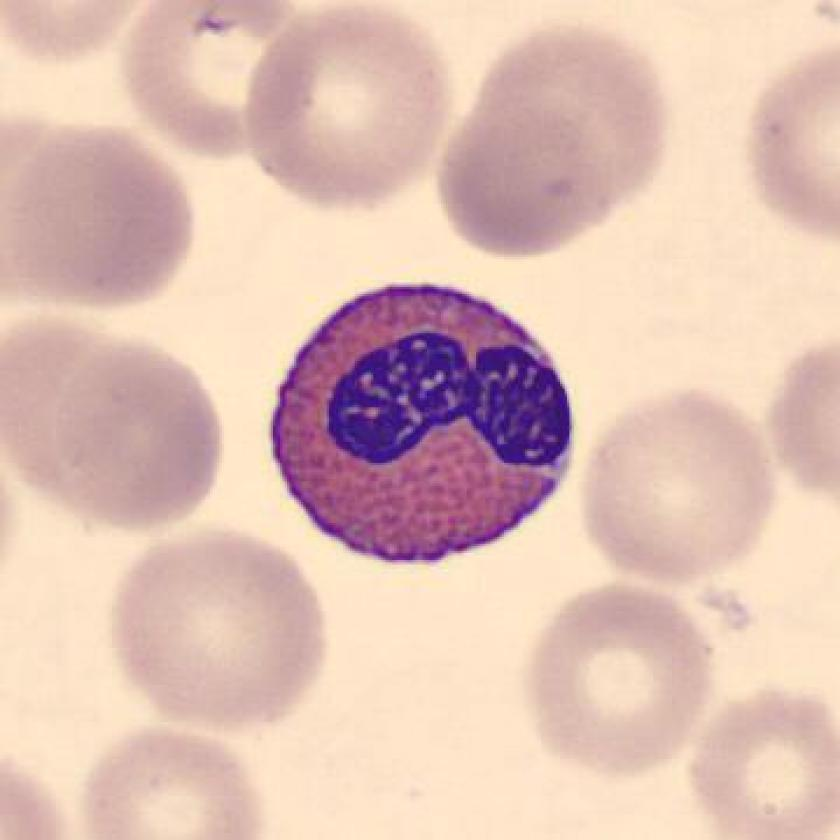eosinophil: (255, 269, 587, 575)
